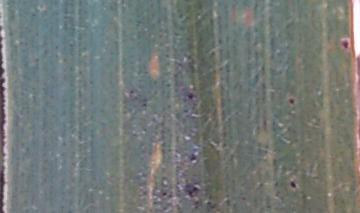tarspot: (1, 9, 9, 213), (183, 183, 201, 199), (338, 35, 350, 51), (288, 180, 299, 191), (185, 90, 195, 101), (286, 96, 296, 106), (187, 152, 197, 162), (125, 87, 134, 98)
